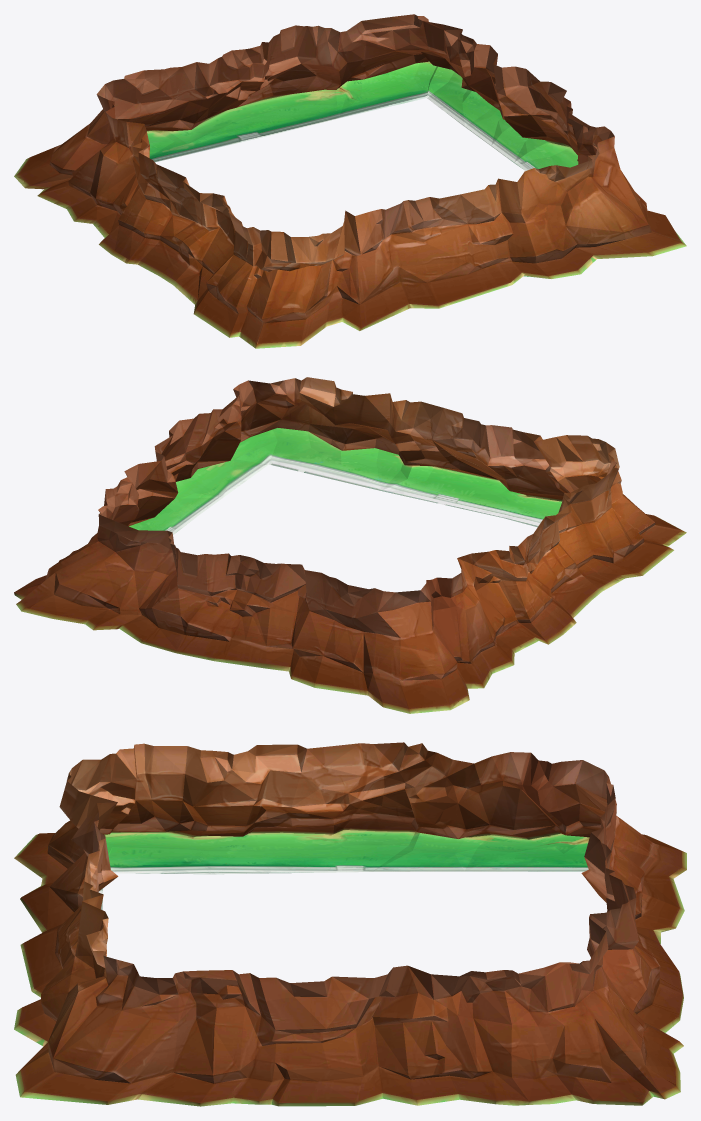
File: Cliff.obj
The picture shows the model from 3 angles, top to bottom: view 1: azimuth 30°, elevation 25°; view 2: azimuth 150°, elevation 25°; view 3: azimuth 270°, elevation 25°; orthographic projection. The views are drawn at different scales.
Visible parts, largest first — view 1: Cliff_0; view 2: Cliff_0; view 3: Cliff_0.
Part boxes in pixels (bbox=[...]): Cliff_0: bbox=[14, 14, 686, 348]; Cliff_0: bbox=[14, 377, 686, 713]; Cliff_0: bbox=[14, 742, 686, 1106].
Bounding box in the file's own units: 16.5 × 3.24 × 16.65.
